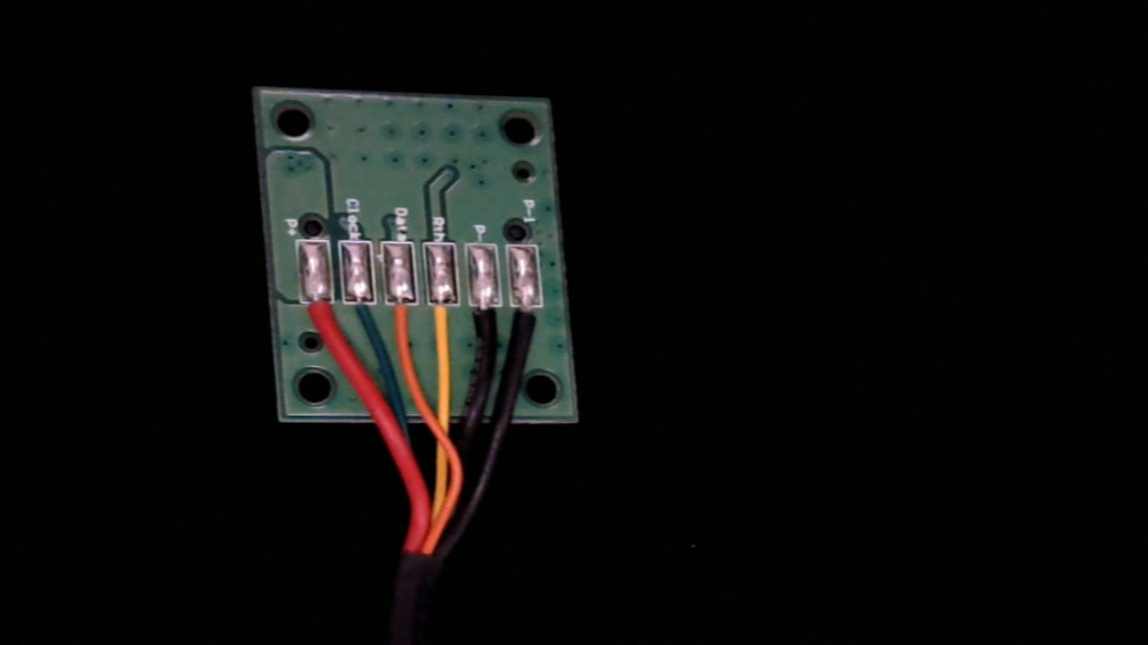Black: (466, 288, 507, 355)
Black1: (508, 289, 550, 360)
Green: (344, 286, 385, 353)
Orange: (383, 287, 423, 356)
Red: (301, 286, 343, 353)
Yellow: (428, 287, 463, 351)
